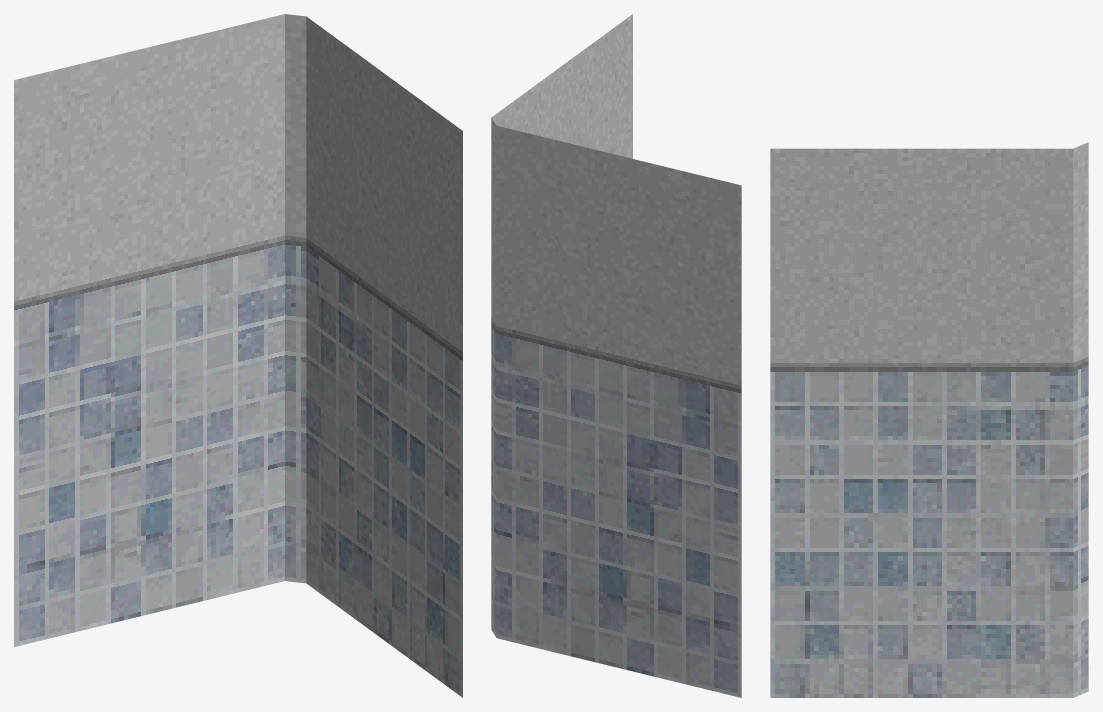
File: wallTurnTiles.glb
The picture shows the model from 3 angles, left to right: view 1: azimuth 30°, elevation 25°; view 2: azimuth 150°, elevation 25°; view 3: azimuth 270°, elevation 25°; orthographic projection. The views are drawn at different scales.
Visible parts, largest first — view 1: wallTurnTiles; view 2: wallTurnTiles; view 3: wallTurnTiles.
Boxes of the visible parts, box(x1,y1,x2,y2) form: wallTurnTiles: box(14, 14, 462, 697); wallTurnTiles: box(491, 14, 741, 697); wallTurnTiles: box(770, 142, 1088, 697).
Bounding box in the file's own units: 2.1 × 4 × 2.1.
Materials: 1 (1 with a texture image).
